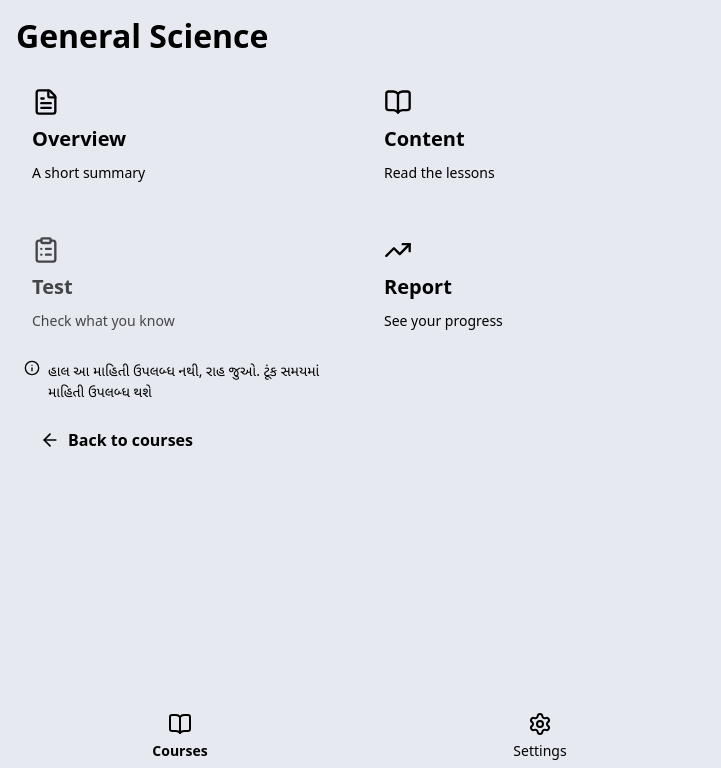
it: home routes inside the Shell › the Overview and Content tiles render the real reader inside the Shell, and Back returns to the course
The width and height of the screenshot is (721, 768).
Later steps or results of the test are not shown.
expect the heading "General Science" is shown: met, box [16,14,268,57]
Click the button "Overview A short summary": (79,138) [16,72,352,204]
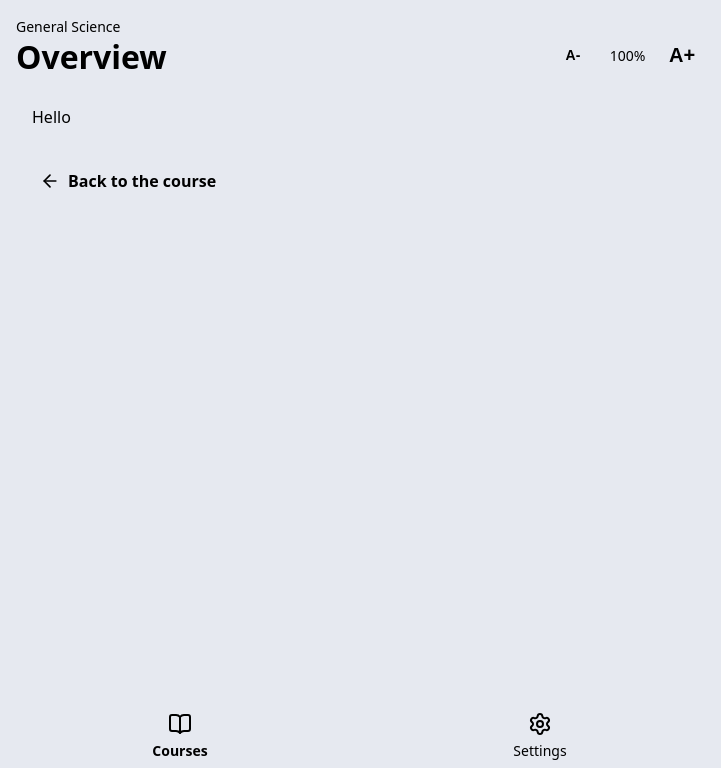
expect the heading "Overview" is shown: met, box [16,37,167,77]
expect the text "Hello" is shown: met, box [32,106,71,128]
Click the button "Back to the course": (128,181) [16,159,240,203]
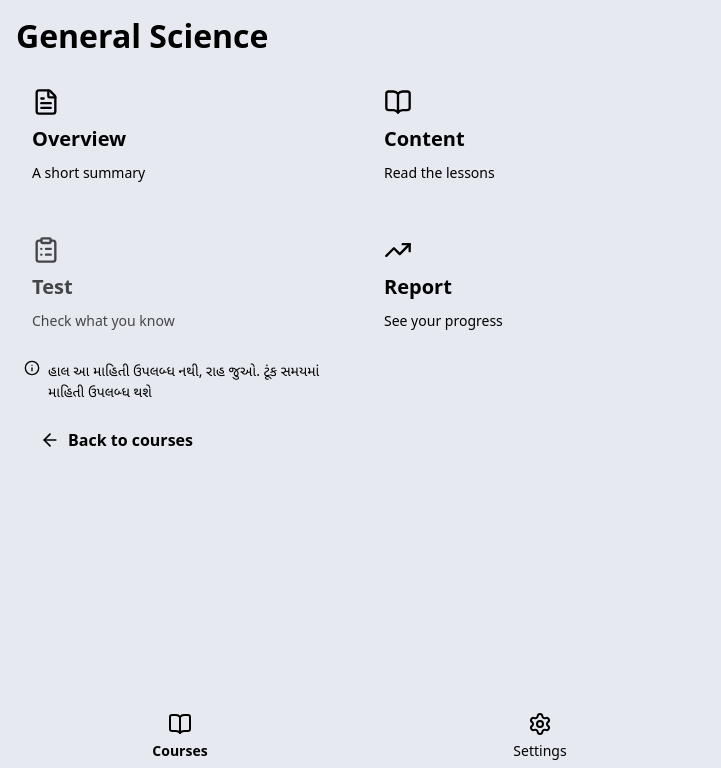
expect the heading "General Science" is shown: met, box [16,14,268,57]
Click the button "Content Read the lessons": (424,138) [368,72,704,204]
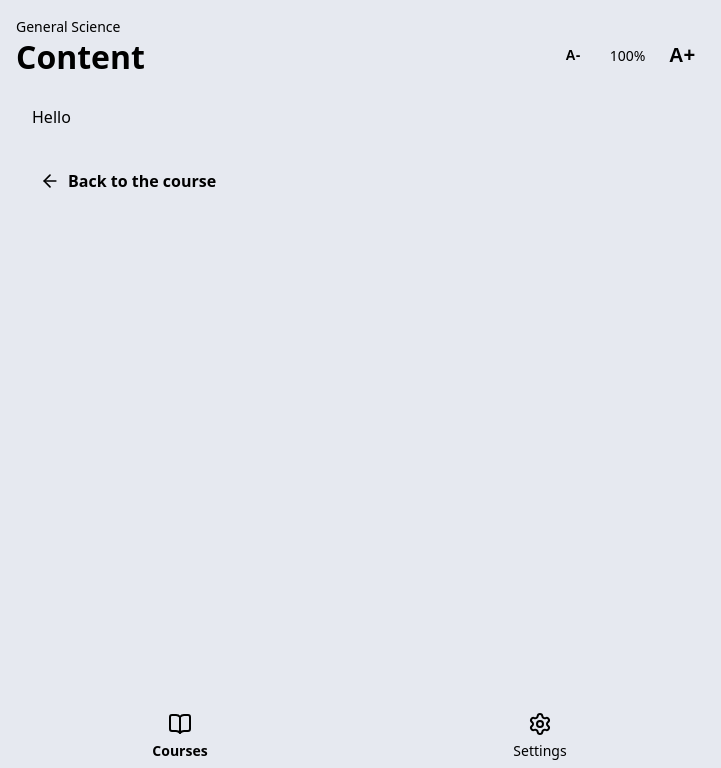
expect the navigation bar named "Main" is shown: met, box [152,712,567,760]
expect the heading "Content" is shown: met, box [16,37,145,77]
expect the text "Hello" is shown: met, box [32,106,71,128]
